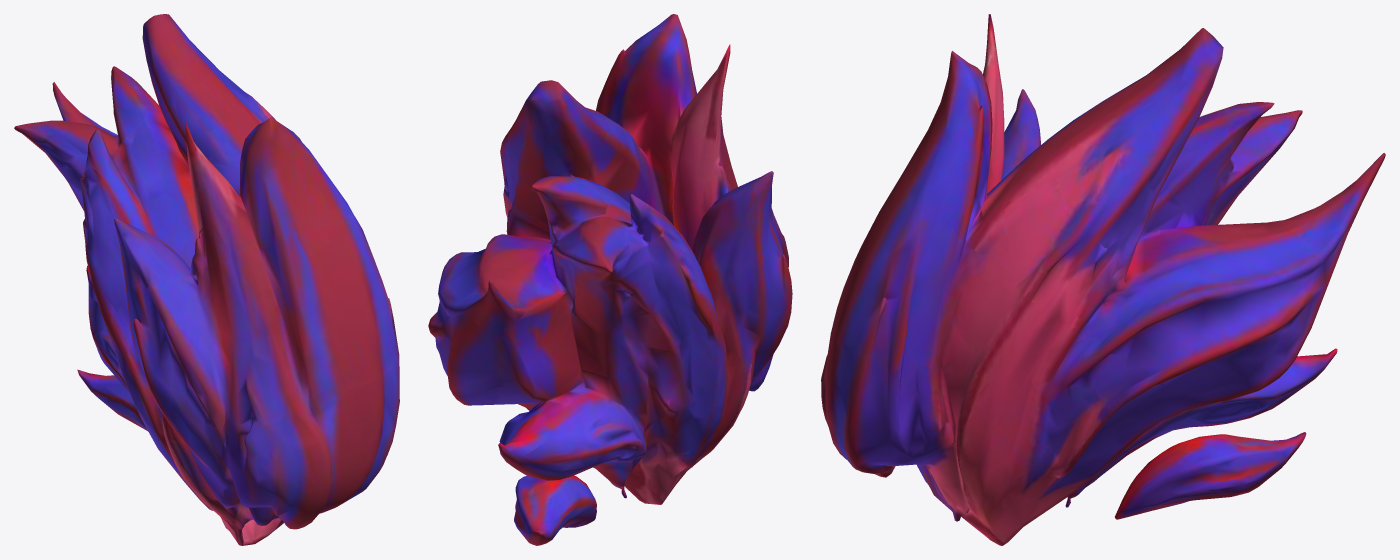
Rendered from E002YamarashiiHair.glb.
3 views of the same model, side by side, from view 1: azimuth 30°, elevation 25°; view 2: azimuth 150°, elevation 25°; view 3: azimuth 270°, elevation 25° (orthographic). The views are drawn at different scales.
Parts seen in each view (by area): view 1: tripo_node_1d64ff73-76ed-46bb-a03f-a1ef0ecb9074; view 2: tripo_node_1d64ff73-76ed-46bb-a03f-a1ef0ecb9074; view 3: tripo_node_1d64ff73-76ed-46bb-a03f-a1ef0ecb9074.
Part boxes in pixels (bbox=[...]): tripo_node_1d64ff73-76ed-46bb-a03f-a1ef0ecb9074: bbox=[14, 14, 399, 545]; tripo_node_1d64ff73-76ed-46bb-a03f-a1ef0ecb9074: bbox=[428, 14, 792, 545]; tripo_node_1d64ff73-76ed-46bb-a03f-a1ef0ecb9074: bbox=[821, 14, 1385, 545].
Bounding box in the file's own units: 0.5109 × 0.9382 × 0.9357.
Materials: 1 (1 with a texture image).
